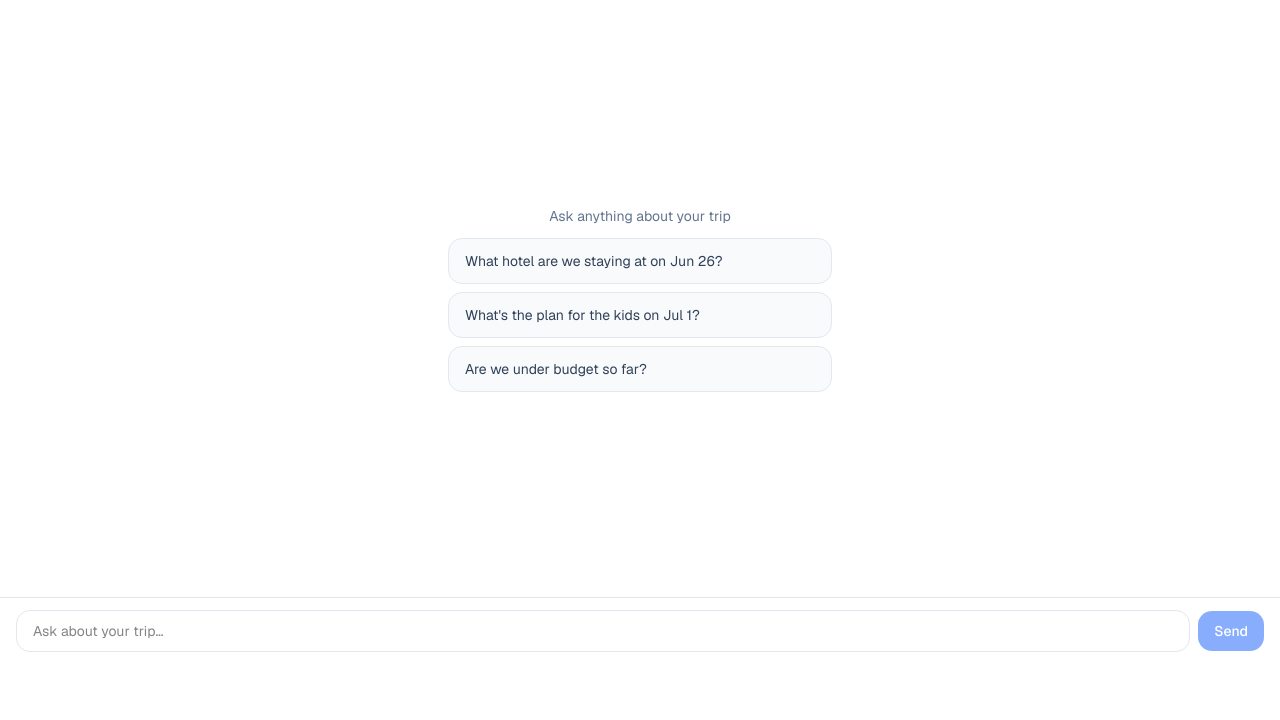
Scenario: disables send button while streaming
Step 1. Type "Hello" into the field → [603, 631], box [16,610,1190,652]
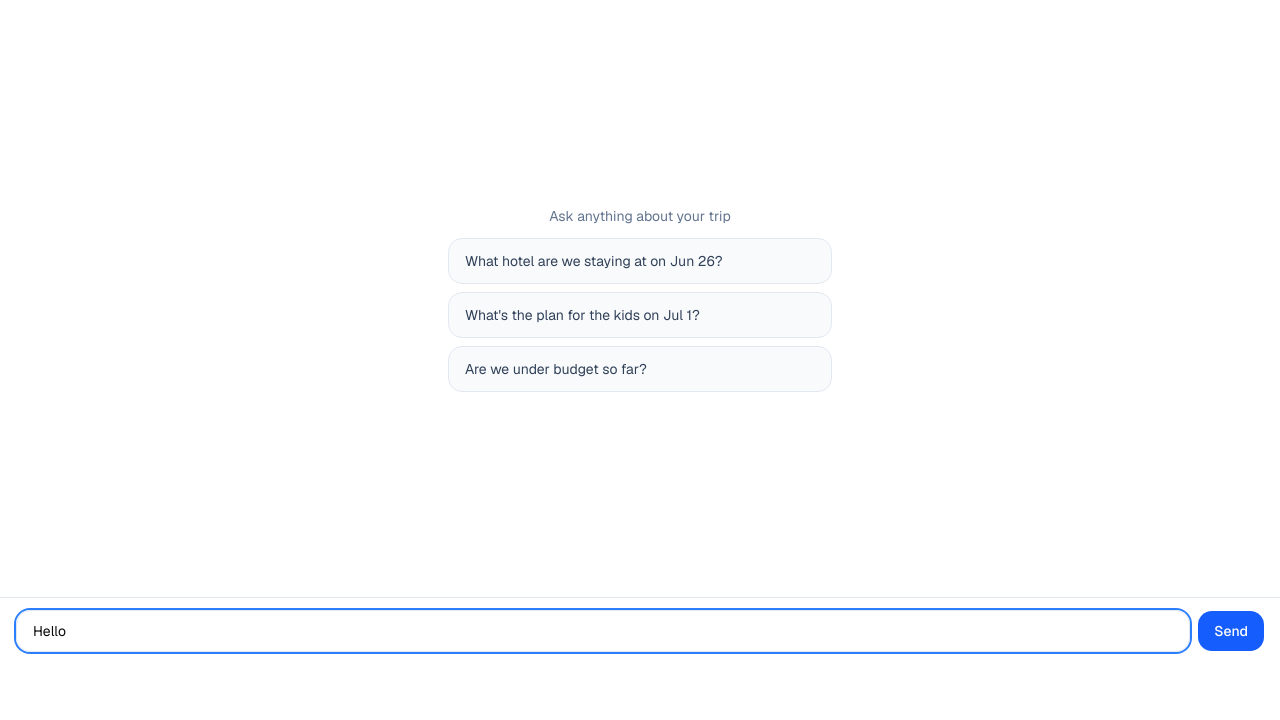
Step 2. Click the button "Send" → [1231, 631], box [1198,611,1264,651]
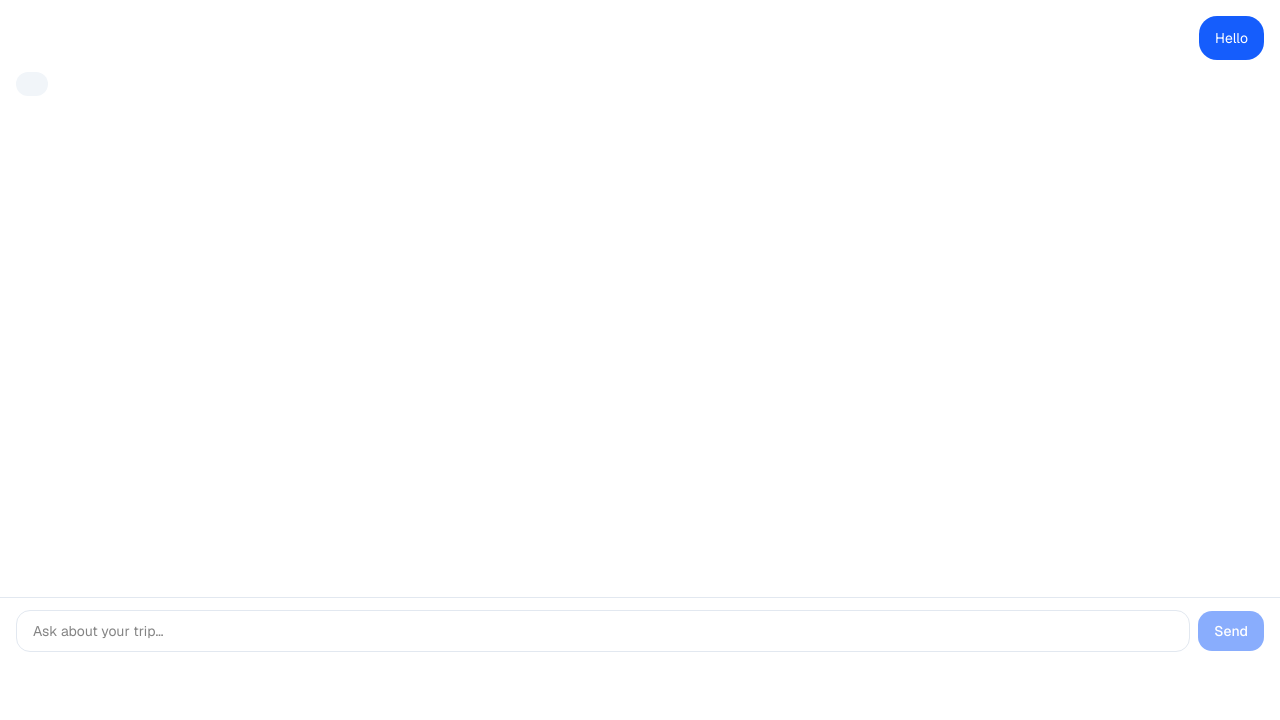
Expected: the field is enabled, [16,610,1190,652]
Expected: the button "Send" is disabled, [1198,611,1264,651]
